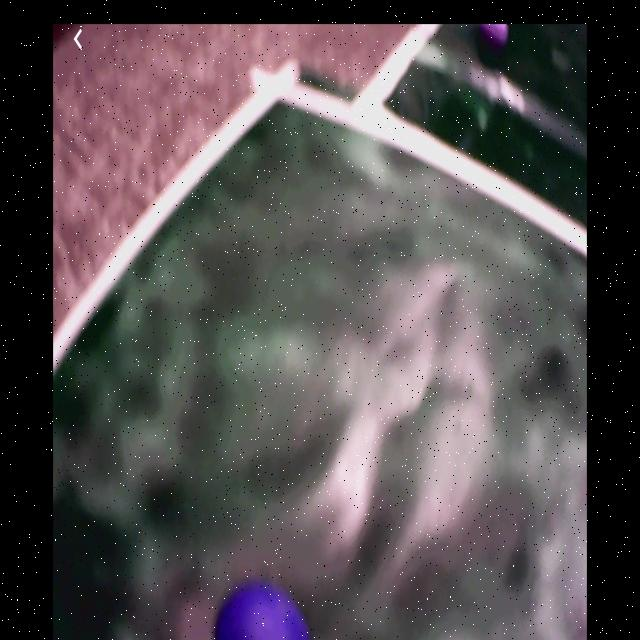ball: (214, 585, 315, 640), (481, 26, 510, 45)
